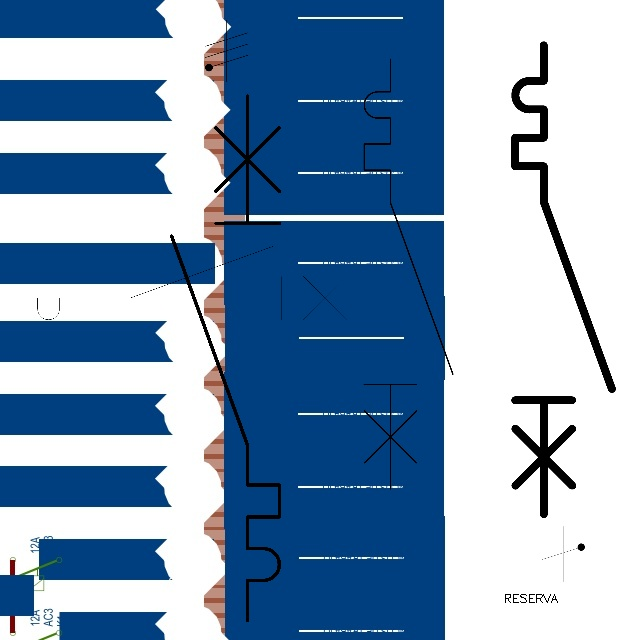interruptor_termomagnetico: (158, 82, 293, 634), (503, 33, 623, 526), (353, 48, 463, 500), (1, 237, 378, 329)
